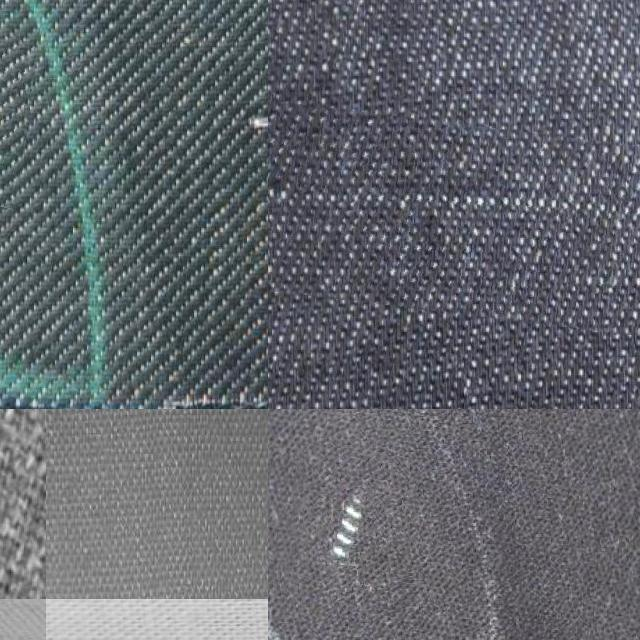stains: (268, 105, 640, 329), (286, 448, 416, 614), (0, 29, 33, 205)
